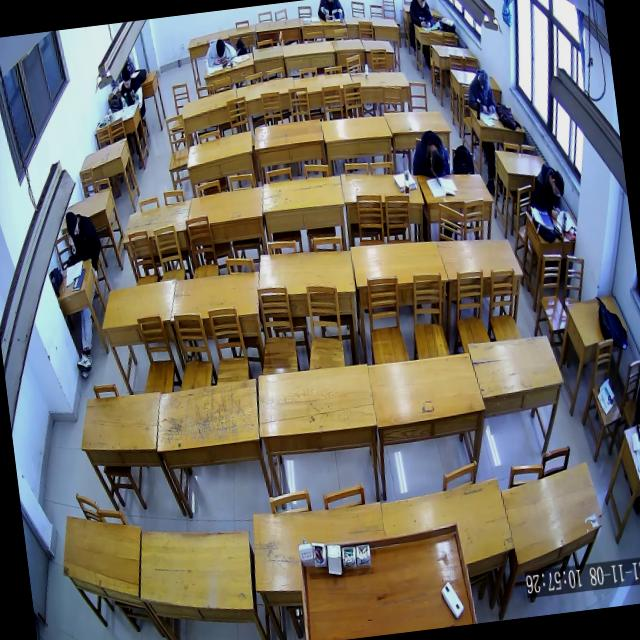bow: (408, 126, 452, 181), (200, 35, 238, 70)
down: (548, 168, 566, 202), (64, 210, 80, 240), (476, 67, 492, 94), (213, 36, 227, 59), (119, 68, 132, 90), (415, 0, 427, 10)
sit: (527, 160, 569, 223), (62, 207, 103, 266), (463, 66, 498, 118), (116, 65, 145, 110), (406, 0, 435, 31)
